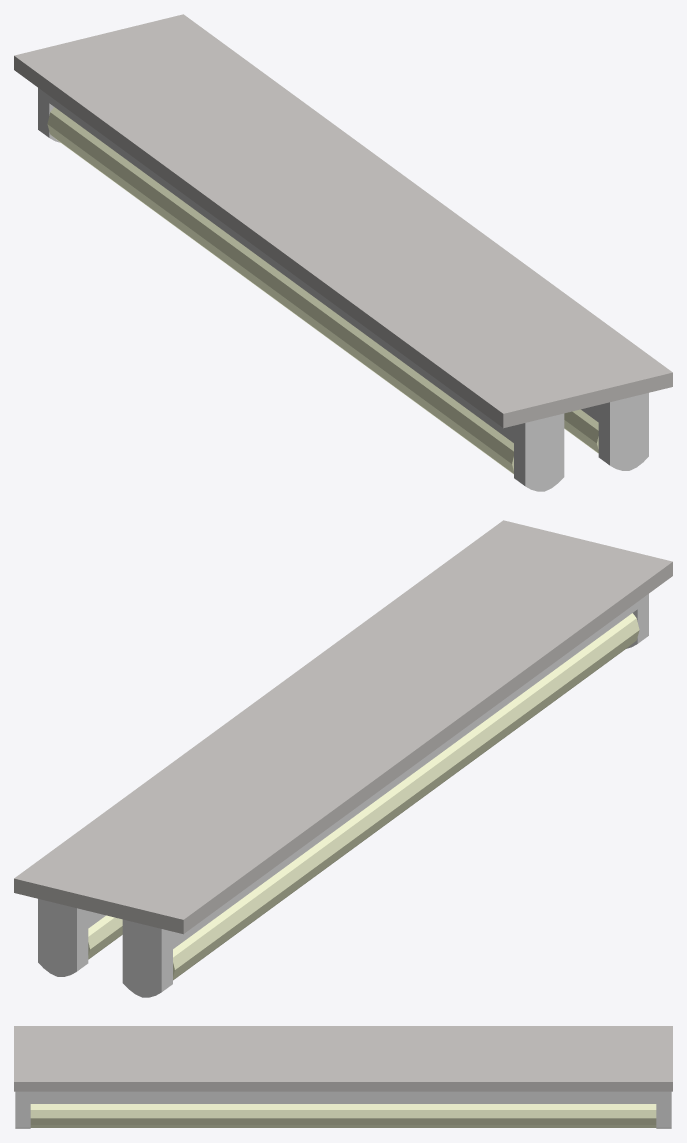
Rendered from M_CellingLight.fbx.
The picture shows the model from 3 angles, top to bottom: view 1: azimuth 30°, elevation 25°; view 2: azimuth 150°, elevation 25°; view 3: azimuth 270°, elevation 25°; orthographic projection. The views are drawn at different scales.
Visible parts, largest first — view 1: ceiling_lights_GEO; view 2: ceiling_lights_GEO; view 3: ceiling_lights_GEO.
Boxes of the visible parts, x1,y1,x2,y2 form: ceiling_lights_GEO: (14,14,672,491); ceiling_lights_GEO: (14,520,672,997); ceiling_lights_GEO: (14,1026,672,1128).
Bounding box in the file's own units: 20 × 10 × 100.
2 materials, 2 textured.
